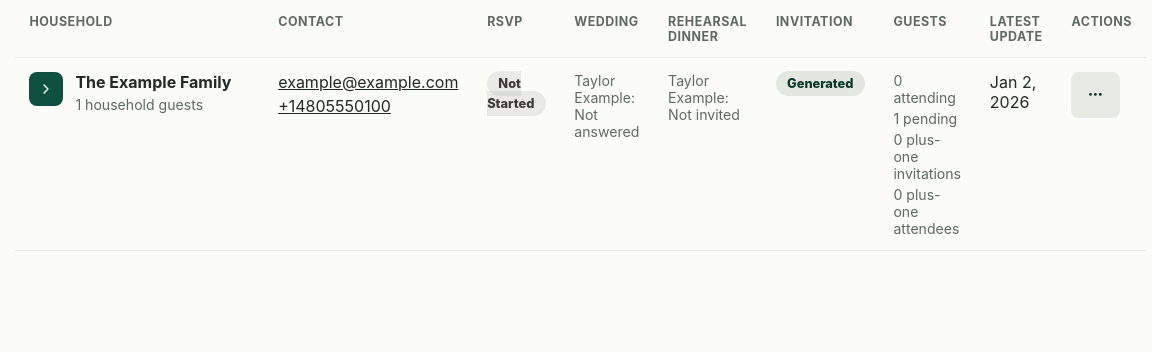
Test: AdminHouseholdsTable › renders desktop table columns and expandable household details
The image size is (1152, 352).
Check: the column heading "Household" is shown, box [15,0,264,58]
Check: the column heading "Contact" is shown, box [264,0,473,58]
Click the button named "Show The Example Family details" at (46, 89), box [29,72,63,106]
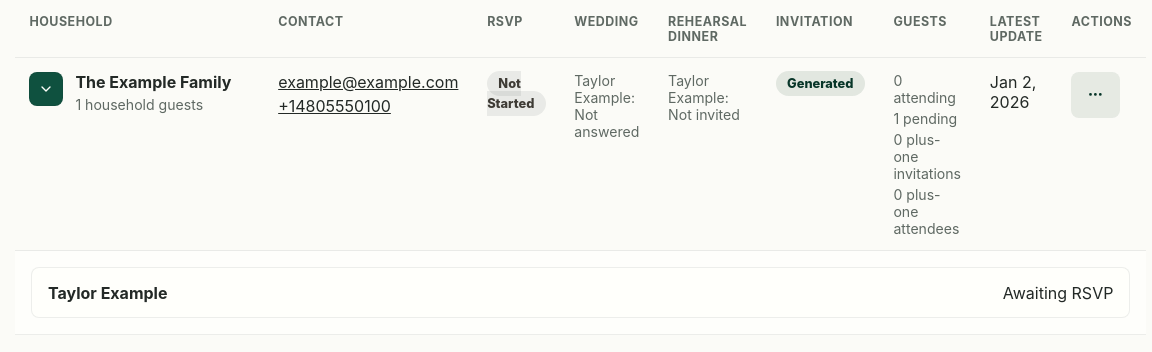
Check: the text "Taylor Example" is shown, box [48,283,168,303]
Check: the text "Awaiting RSVP" is shown, box [1003,283,1113,303]
